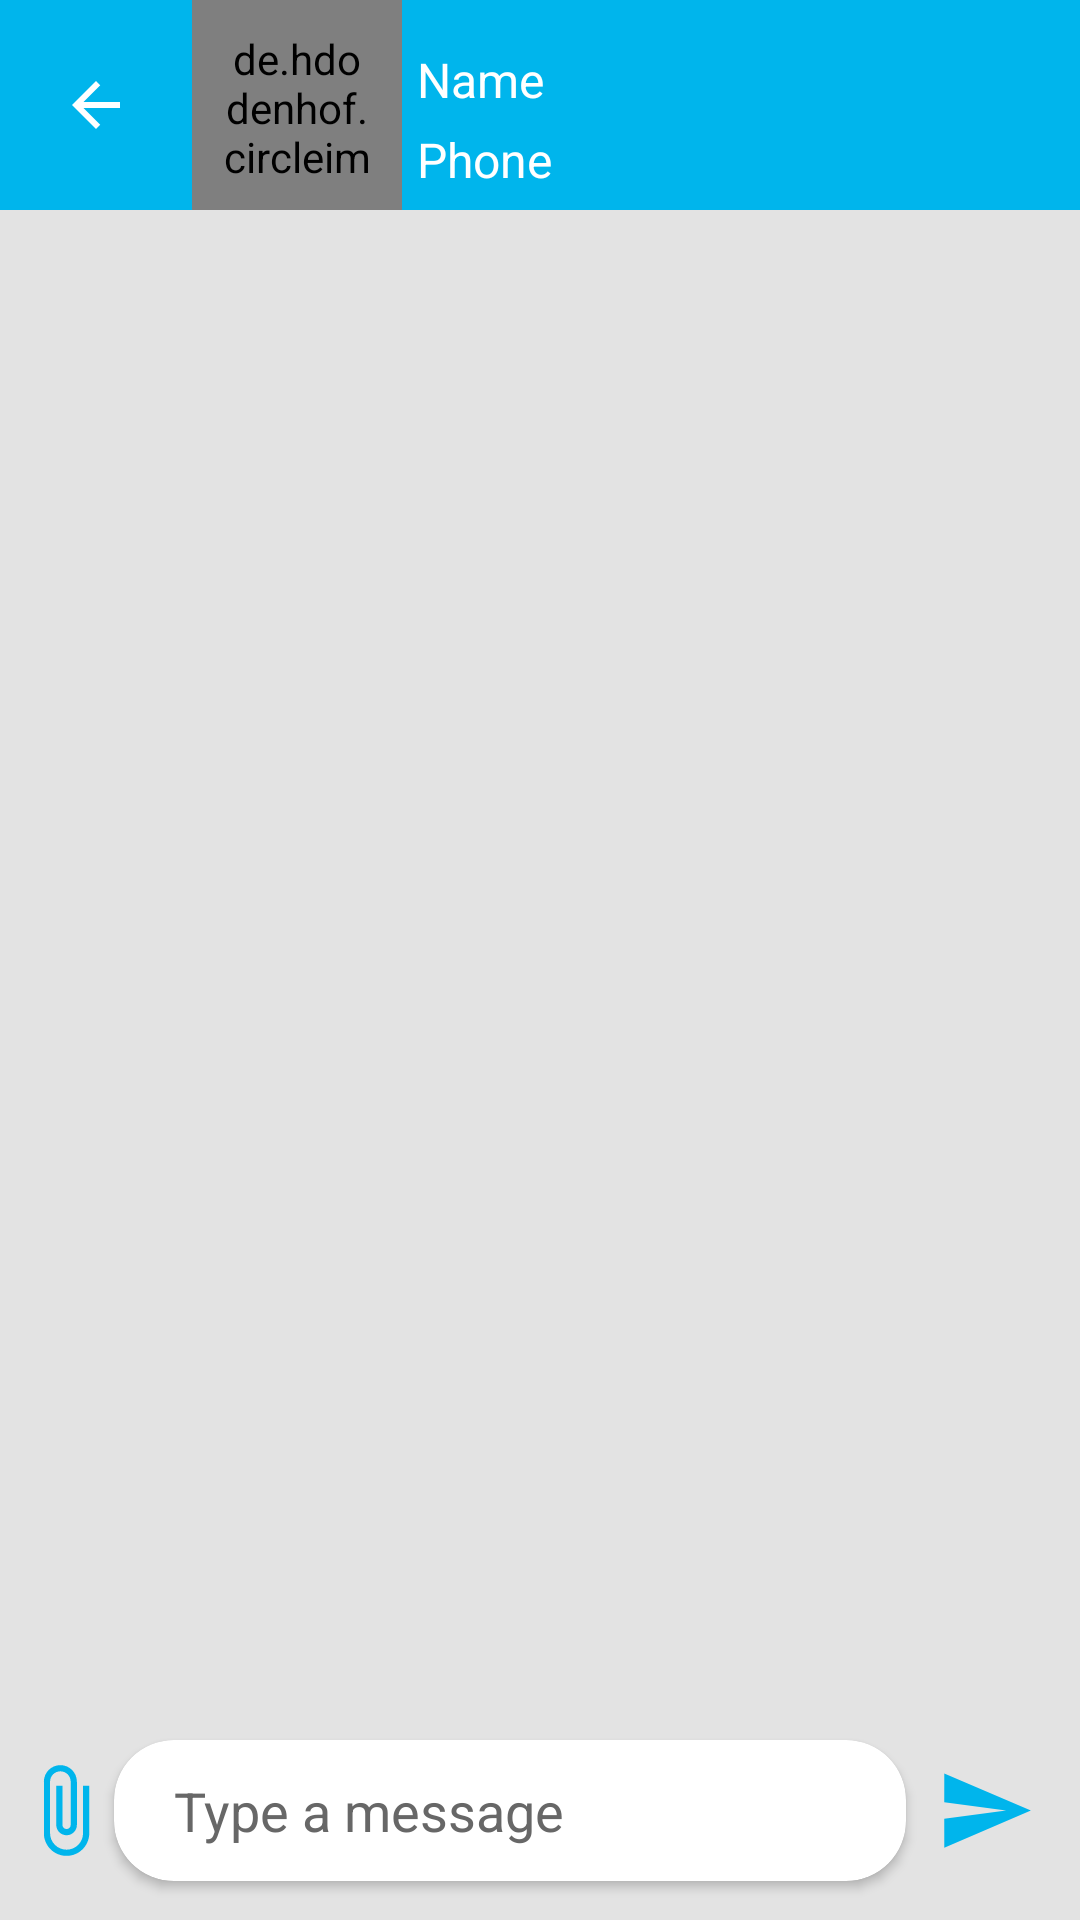

Icon bounding boxes for this 1080×1920 phone screenshot, format [x1,y1,x2,y2]:
arrow back: [72,81,120,129]
attach file: [44,1765,90,1856]
send: [944,1773,1031,1848]
